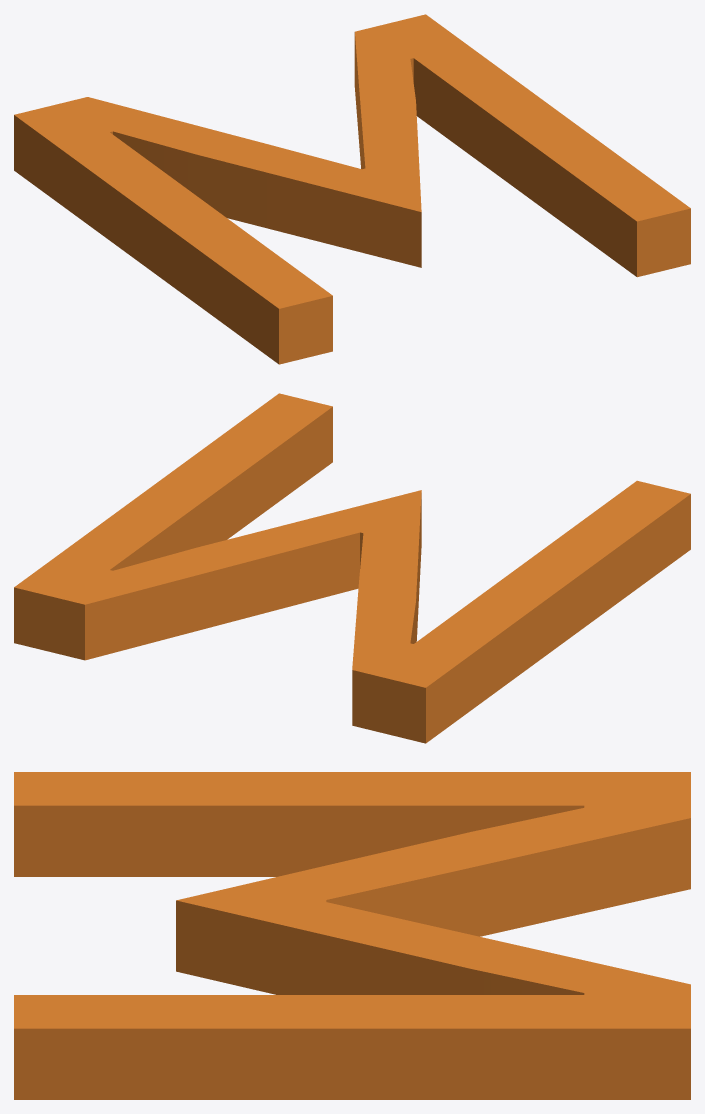
The picture shows the model from 3 angles, top to bottom: view 1: azimuth 30°, elevation 25°; view 2: azimuth 150°, elevation 25°; view 3: azimuth 270°, elevation 25°; orthographic projection. The views are drawn at different scales.
Parts seen in each view (by area): view 1: M; view 2: M; view 3: M.
Part boxes in pixels (x1,y1,x2,y2): M: (14, 14, 690, 364); M: (14, 393, 690, 743); M: (14, 772, 690, 1099).
Bounding box in the file's own units: 0.1941 × 0.0251 × 0.2165.
